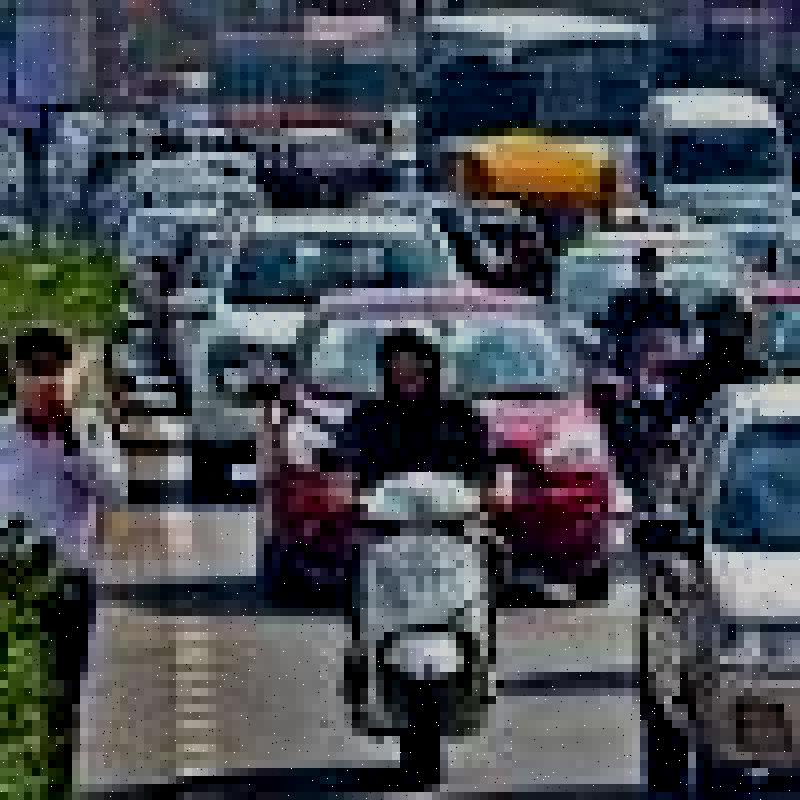bike: (328, 448, 508, 776)
car: (236, 296, 606, 630), (628, 378, 800, 794)
